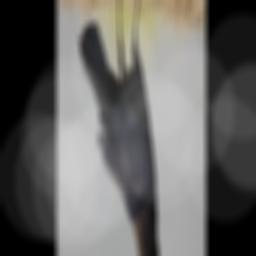Crow: (78, 0, 166, 256)
